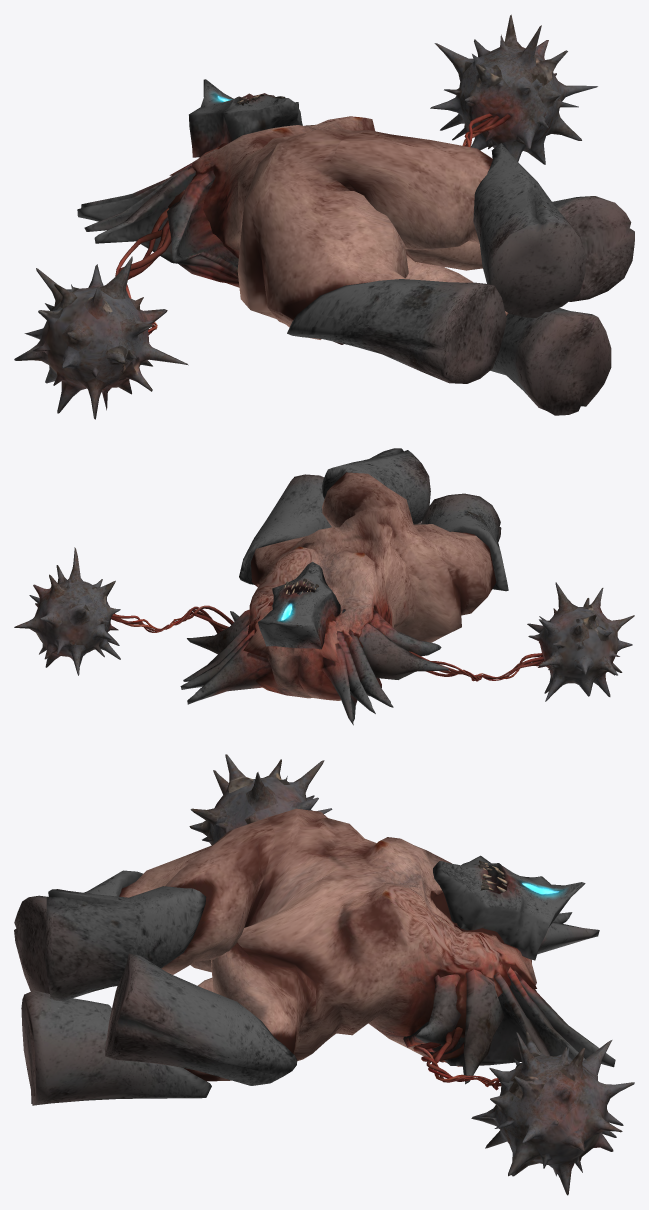
The model's file is FatGuyDead_LOD1.fbx.
The picture shows the model from 3 angles, top to bottom: view 1: azimuth 30°, elevation 25°; view 2: azimuth 150°, elevation 25°; view 3: azimuth 270°, elevation 25°; orthographic projection. The views are drawn at different scales.
Parts seen in each view (by area): view 1: FatGuyDead_LOD1; view 2: FatGuyDead_LOD1; view 3: FatGuyDead_LOD1.
Part boxes in pixels (left/top/right/bottom): FatGuyDead_LOD1: left=14, top=14, right=634, bottom=419; FatGuyDead_LOD1: left=14, top=448, right=634, bottom=725; FatGuyDead_LOD1: left=14, top=754, right=634, bottom=1195.
Size of the model in its own units: 6.16 by 1.87 by 4.6.
